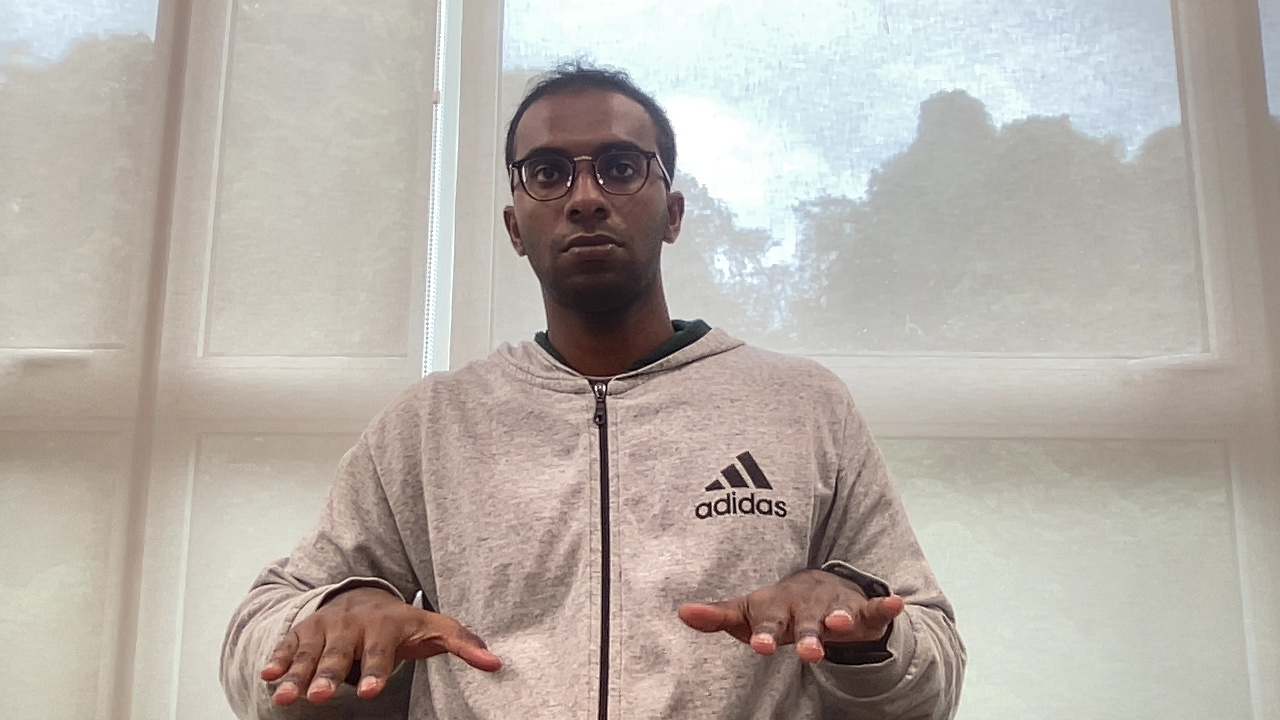finish: (252, 586, 919, 707)
